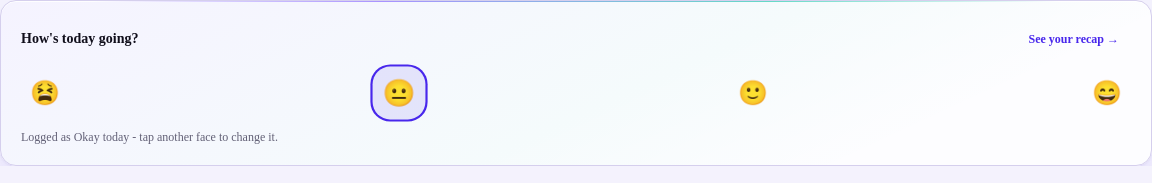
Test case: MoodCheckInCard › reports a failed save and puts back the previous selection
The image size is (1152, 183).
Click the button named "Great": (1107, 93) x1=1083 y1=69 x2=1131 y2=117
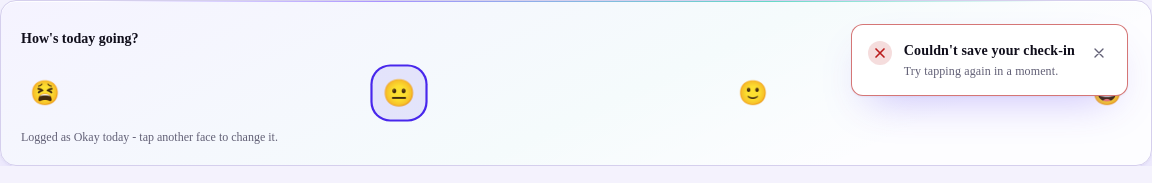
Check: the heading "Couldn't save your check-in" is shown, box x1=904 y1=41 x2=1075 y2=61
Check: the text "Try tapping again in a moment." is shown, box x1=904 y1=63 x2=1075 y2=79
